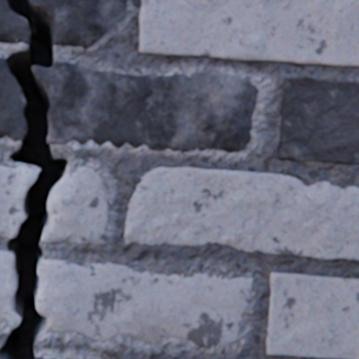brick: (123, 167, 358, 260), (139, 0, 358, 67), (265, 272, 358, 358), (277, 78, 358, 163)
broken_brick: (31, 63, 257, 152), (36, 257, 251, 346), (41, 163, 107, 244), (30, 0, 126, 47), (0, 166, 39, 237), (0, 59, 26, 141), (0, 250, 20, 325), (0, 0, 30, 44), (0, 354, 8, 358), (35, 356, 44, 358)
crack: (0, 0, 67, 358)
